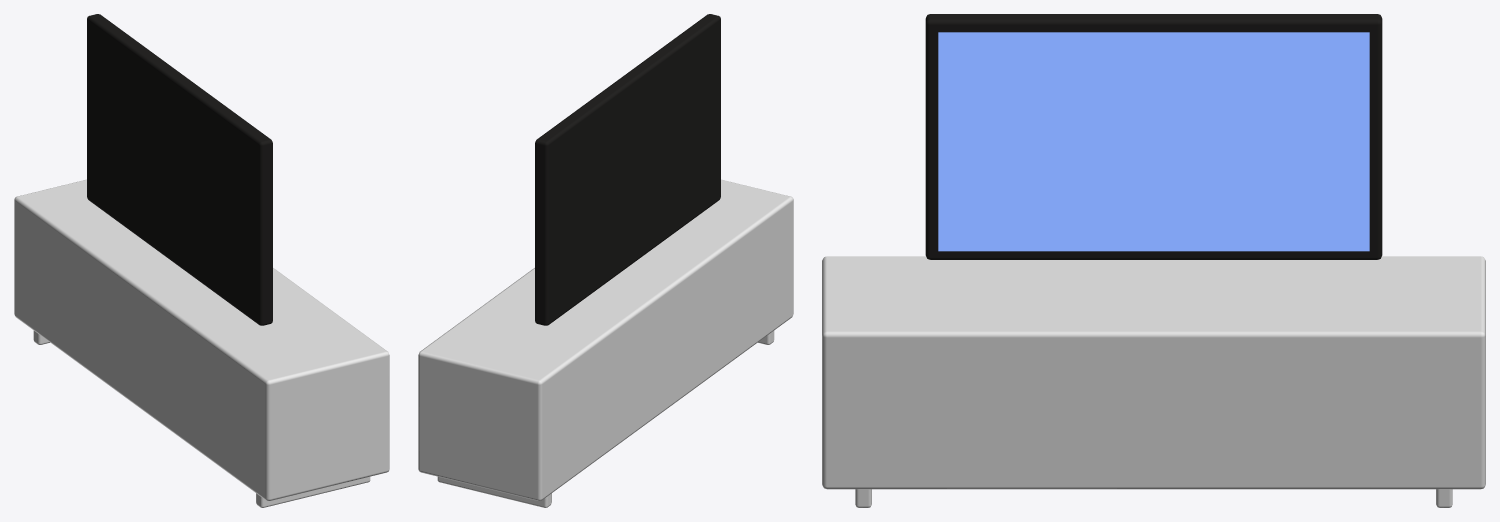
The model's file is ref_Rack_TV.glb.
3 renders of one model, left to right at view 1: azimuth 30°, elevation 25°; view 2: azimuth 150°, elevation 25°; view 3: azimuth 270°, elevation 25°, orthographic. The views are drawn at different scales.
Parts seen in each view (by area): view 1: Rack, TV, Rack_Pe; view 2: Rack, TV, Rack_Pe.001; view 3: Rack, TV_Tela, TV.
Part boxes in pixels (x1,y1,x2,y2): Rack: [14, 179, 389, 500]; TV: [87, 14, 272, 325]; Rack_Pe: [256, 476, 370, 507]; Rack: [418, 179, 793, 500]; TV: [535, 14, 720, 325]; Rack_Pe.001: [437, 476, 551, 507]; Rack: [822, 256, 1485, 489]; TV_Tela: [938, 32, 1369, 251]; TV: [925, 14, 1382, 259].
Size of the model in its own units: 0.45 by 1.18 by 1.6.
